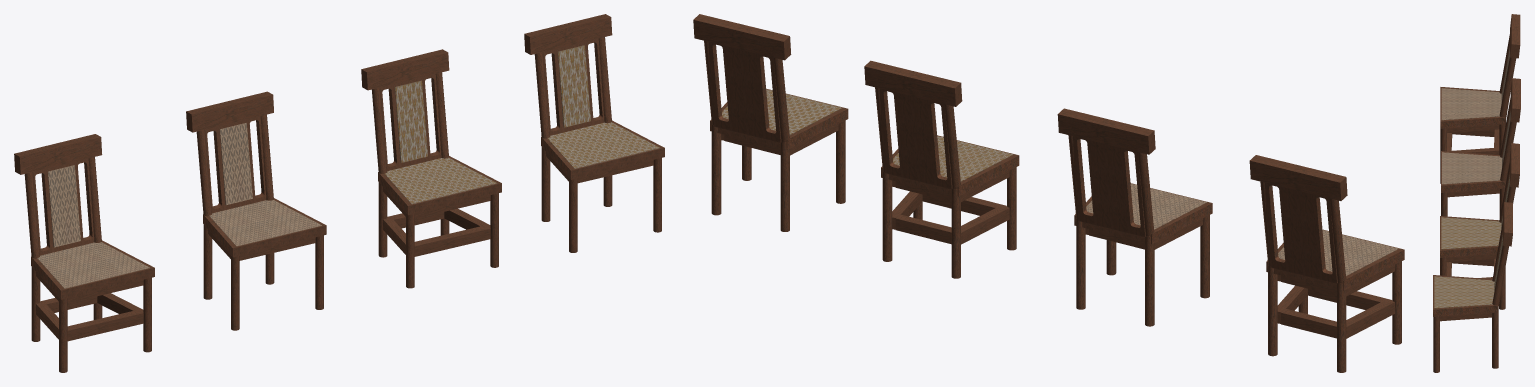
File: Four Chairs GLB.glb
3 views of the same model, side by side, from view 1: azimuth 30°, elevation 25°; view 2: azimuth 150°, elevation 25°; view 3: azimuth 270°, elevation 25° (orthographic). The views are drawn at different scales.
Parts seen in each view (by area): view 1: chair1, chair3, chair4, chair2; view 2: chair3, chair1, chair4, chair2; view 3: chair1, chair4, chair2, chair3.
Part boxes in pixels (x1,y1,x2,y2): chair1: [14, 134, 154, 372]; chair3: [361, 49, 501, 288]; chair4: [524, 14, 664, 252]; chair2: [186, 91, 326, 330]; chair3: [864, 60, 1019, 278]; chair1: [1249, 155, 1404, 372]; chair4: [693, 14, 848, 231]; chair2: [1057, 108, 1212, 326]; chair1: [1440, 14, 1520, 183]; chair4: [1433, 202, 1512, 372]; chair2: [1441, 78, 1520, 217]; chair3: [1440, 143, 1519, 309].
Bounding box in the file's own units: 3.54 × 1.02 × 0.5885.
3 materials, 3 textured.
